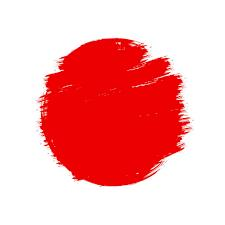red_circle: (33, 30, 197, 193)
